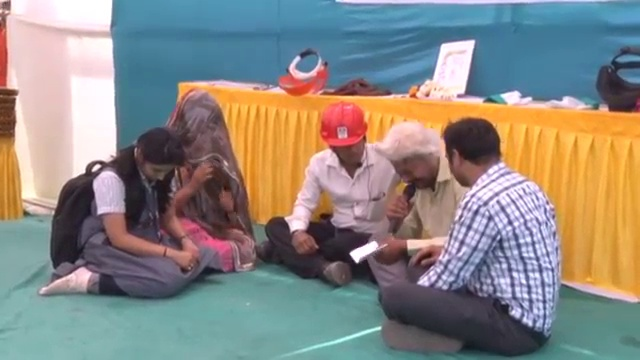helmet: (314, 103, 373, 151)
helmet_off: (441, 118, 510, 194), (385, 123, 445, 200), (170, 89, 229, 166), (127, 127, 185, 191)
helmet_on: (318, 108, 373, 174)
person: (376, 118, 566, 354), (37, 127, 208, 303), (254, 99, 403, 283), (154, 86, 257, 269), (362, 120, 472, 286)
